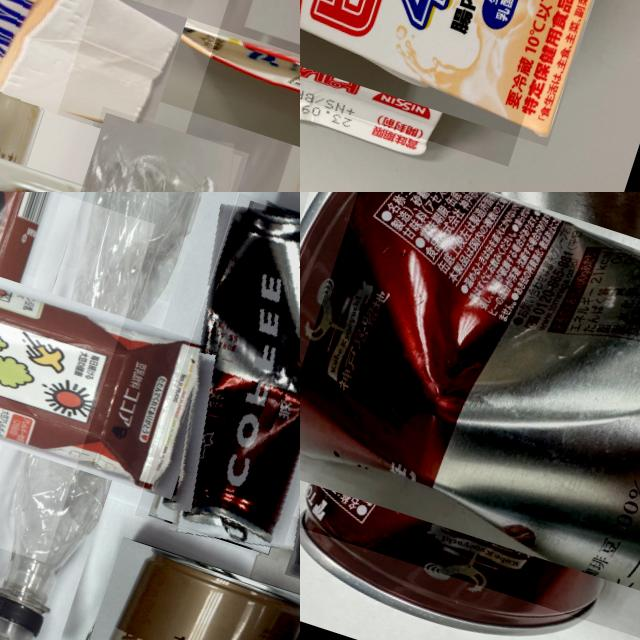Aluminium Foil: (0, 192, 155, 562), (300, 0, 627, 165), (153, 0, 300, 192), (0, 0, 127, 192)
Can: (300, 192, 640, 640), (132, 192, 300, 560), (60, 536, 300, 640), (243, 282, 300, 560), (0, 70, 100, 192)
Transparent Plastic Bottle: (0, 192, 227, 640), (58, 105, 248, 192)
